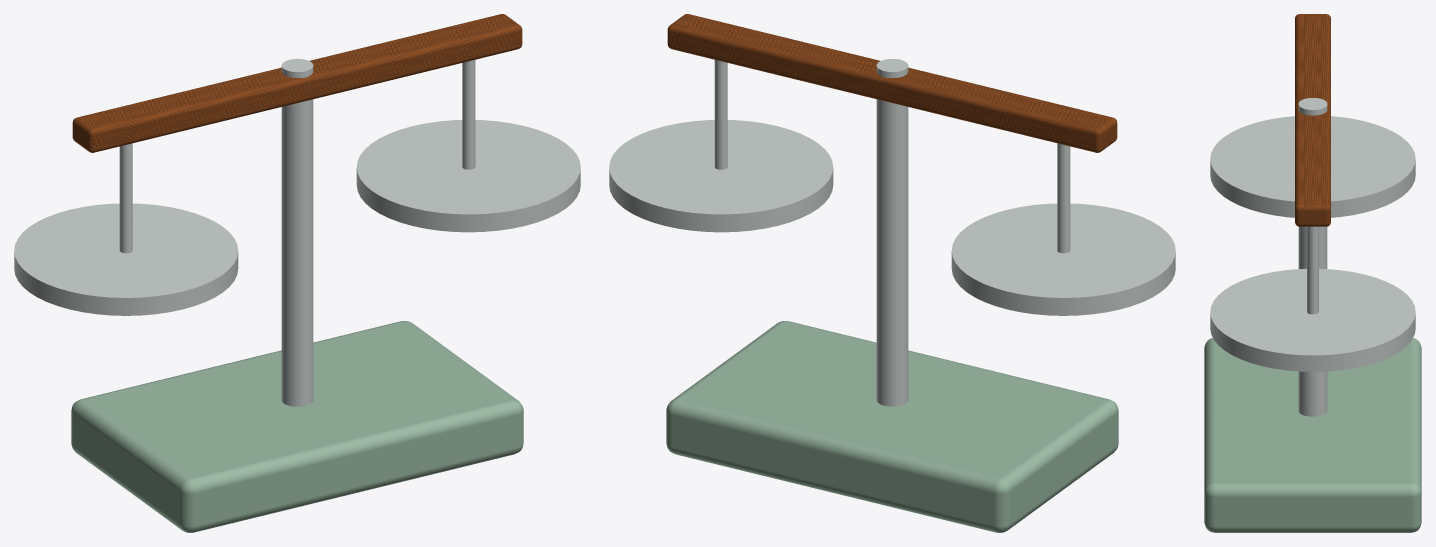
The model's file is ceramics-pottery-studio-balance-scale-e052f021__29510.glb.
The picture shows the model from 3 angles, left to right: view 1: azimuth 30°, elevation 25°; view 2: azimuth 150°, elevation 25°; view 3: azimuth 270°, elevation 25°; orthographic projection. The views are drawn at different scales.
Visible parts, largest first — view 1: balance-scale; view 2: balance-scale; view 3: balance-scale.
Boxes of the visible parts, x1,y1,x2,y2 form: balance-scale: [14, 14, 580, 532]; balance-scale: [609, 14, 1175, 532]; balance-scale: [1204, 14, 1421, 532].
Size of the model in its own units: 0.47 by 0.325 by 0.18.
Materials: 3 (1 with a texture image).
